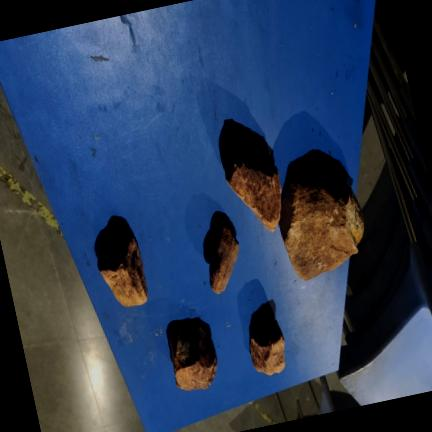Rocks: (278, 170, 363, 279), (224, 147, 280, 231), (97, 231, 147, 306), (169, 320, 216, 389), (208, 223, 238, 292), (249, 320, 284, 374)
